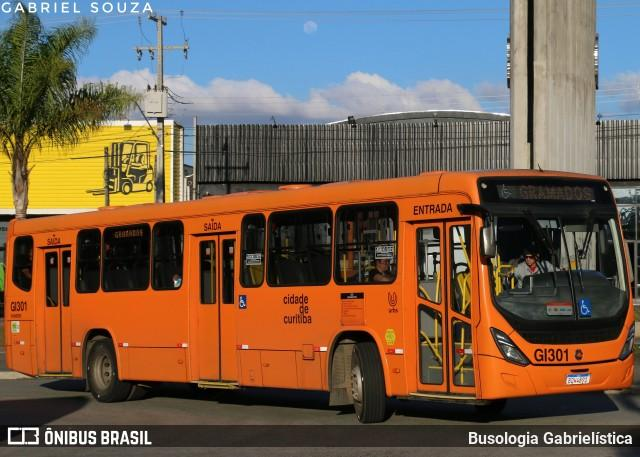GRAMADOS: (515, 180, 600, 204)
